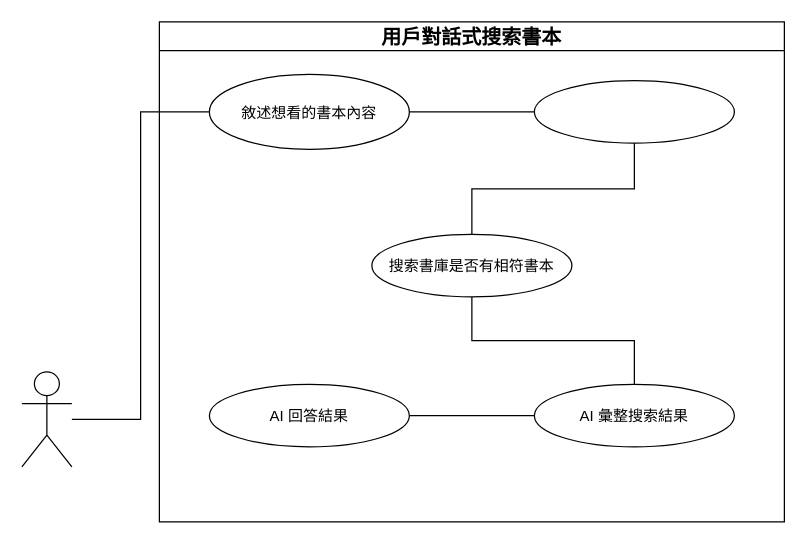
This 806x544 diagram has some shape labels left out. The box of each missing label's shape, as (x1, y1, x2, y2) in pixels:
AI 進行分析用戶敘述: (533, 79, 734, 143)
用戶: (21, 371, 72, 467)
